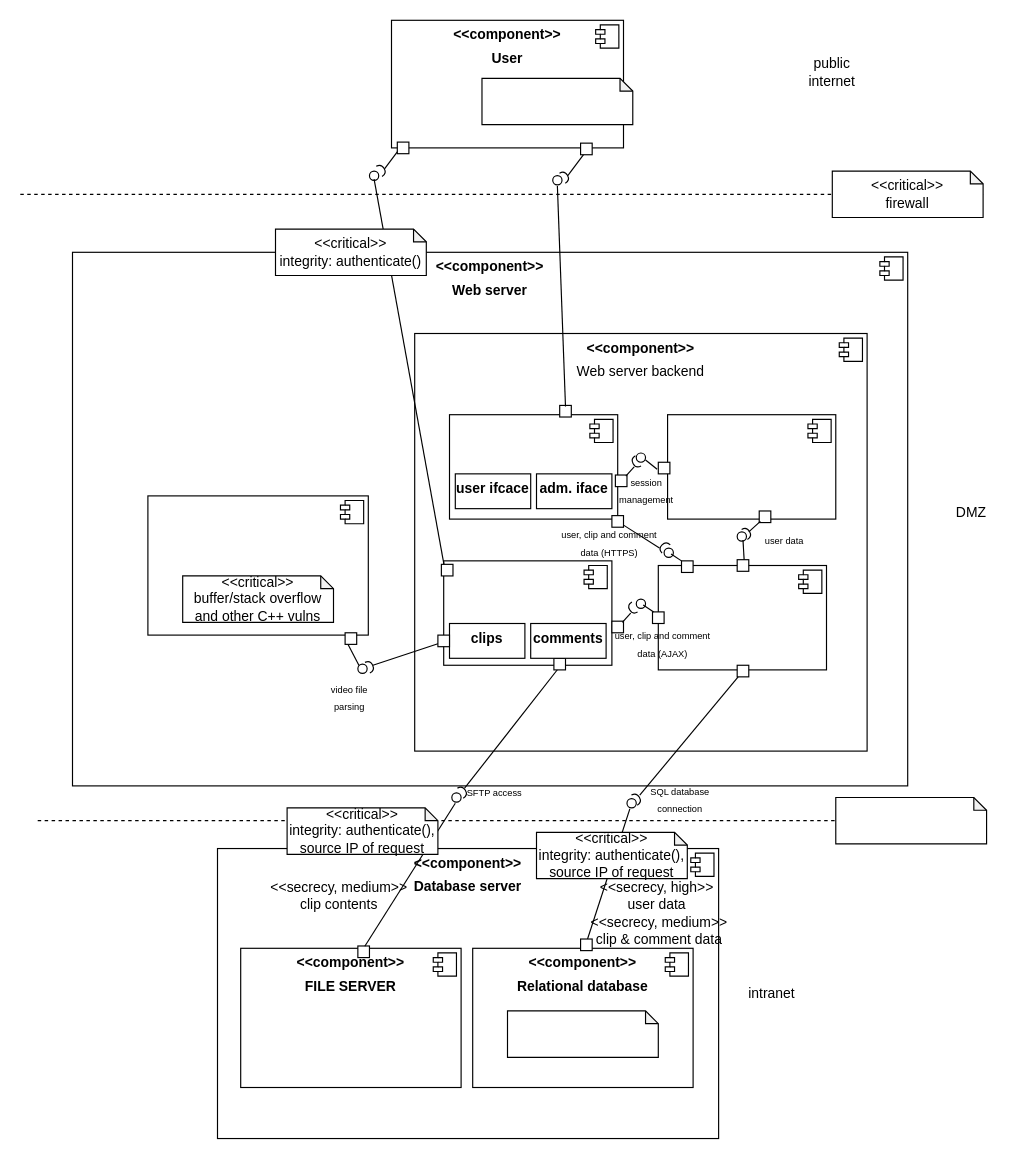
Some shapes in this 1027 by 1159 pixel diagram are drawn without their labels. The shapes that lost their labels are listed below. From the top down, each one's box as (x1, y1, x2, y2) in pixels, then its label:
(481, 77, 633, 125): <<data security>> adversary: remote
(448, 414, 618, 519): <<component>> Web frontend API
(666, 414, 836, 519): <<component>> SessionManager
(147, 495, 368, 635): <<component>> Native C++ parser (can be part of backend if C++)
(443, 560, 612, 665): <<component>> REST API
(657, 564, 826, 670): <<component>> Data access layer
(835, 796, 987, 844): <<high>> firewall
(506, 1010, 658, 1057): <<critical>> salted strong hash for passwords
